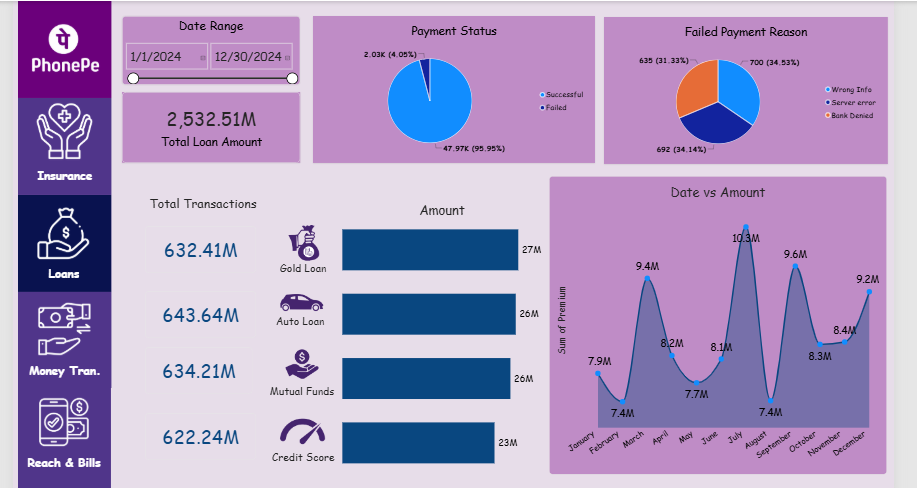

Layout of this report page (visuals, bound fields, positions):
{"tool":"powerbi","page":{"name":"Loans","canvas":[1920,1080],"ordinal":2},"visuals":[{"type":"shape","box":[9.9,0,203,210.9],"z":0},{"type":"shape","box":[9.9,0,203,210.9],"z":0,"group":"g3"},{"type":"shape","box":[10,840,202,226],"z":0,"group":"g2"},{"type":"shape","box":[9.9,210.9,203,210.9],"z":1000},{"type":"shape","box":[9.9,210.9,203,210.9],"z":1000,"group":"g4"},{"type":"image","box":[35.5,855.3,151.8,122.2],"z":1000,"group":"g2"},{"type":"shape","box":[9.9,421.8,203,210.9],"z":2000},{"type":"shape","box":[9.9,421.8,203,210.9],"z":2000,"group":"g5"},{"type":"shape","box":[17.7,977.5,187.2,51.2],"z":2000,"group":"g2"},{"type":"group","id":"g1","title":"Group 4","box":[9.9,0,203,841.5],"z":3000,"group":"g2"},{"type":"shape","box":[9.9,632.6,203,208.9],"z":3000,"group":"g1"},{"type":"shape","box":[9.9,632.6,203,208.9],"z":3000},{"type":"actionButton","box":[0,0,212,210],"z":4000,"group":"g2"},{"type":"shape","box":[10,840,202,226],"z":4000},{"type":"image","box":[33.5,15.8,157.7,181.3],"z":5000},{"type":"image","box":[33.5,15.8,157.7,181.3],"z":5000,"group":"g3"},{"type":"image","box":[25.6,210.9,171.5,143.9],"z":6000},{"type":"image","box":[25.7,210.9,171.5,143.9],"z":6000,"group":"g4"},{"type":"image","box":[31.5,441.5,157.7,124.2],"z":7000},{"type":"image","box":[31.6,441.5,157.7,124.2],"z":7000,"group":"g5"},{"type":"image","box":[27.6,650.4,167.5,126.1],"z":8000},{"type":"image","box":[27.6,650.4,167.5,126.1],"z":8000,"group":"g1"},{"type":"image","box":[35.5,855.3,151.8,122.2],"z":9000},{"type":"shape","box":[37.4,335,147.8,86.7],"z":10000},{"type":"shape","box":[37.5,335,147.8,86.7],"z":10000,"group":"g4"},{"type":"shape","box":[35.5,565.6,147.8,51.2],"z":11000},{"type":"shape","box":[35.5,565.6,147.8,51.2],"z":11000,"group":"g5"},{"type":"shape","box":[17.7,776.5,187.2,51.2],"z":12000},{"type":"shape","box":[17.8,776.5,187.2,51.2],"z":12000,"group":"g1"},{"type":"shape","box":[17.7,977.5,187.2,51.2],"z":13000},{"type":"group","id":"g2","title":"Group 5","box":[0,0,212.8,1066],"z":14000},{"type":"actionButton","box":[4,210,212,210],"z":15000},{"type":"actionButton","box":[14,220,212,210],"z":16000},{"type":"actionButton","box":[6,632,212,210],"z":17000},{"type":"actionButton","box":[0,856,212,210],"z":18000},{"type":"actionButton","box":[0,2,212,210],"z":19000},{"type":"slicer","title":"Date Range","fields":{"Values":["Recharge_Bills.Date"]},"box":[238,32,388,150],"z":20000},{"type":"cardVisual","title":"Total Loan Amount","fields":{"Data":["Sum(Loans.Loan_Amount)"]},"box":[238,198,388,154],"z":21000},{"type":"group","id":"g3","title":"Group 1","box":[9.9,0,203,210.9],"z":21001,"group":"g4"},{"type":"group","id":"g4","title":"Group 2","box":[9.9,0,203,421.8],"z":21002,"group":"g5"},{"type":"group","id":"g5","title":"Group 3","box":[9.9,0,203,632.6],"z":21003,"group":"g1"},{"type":"pieChart","title":"Payment Status","fields":{"Category":["Loans.Payment_Status"],"Y":["CountNonNull(Loans.Payment_Status)"]},"box":[652.5,32.5,614,320],"z":22000},{"type":"pieChart","title":"Failed Payment Reason","fields":{"Category":["Loans.Reason"],"Y":["CountNonNull(Loans.Reason)"]},"box":[1286,34,618,320],"z":23000},{"type":"areaChart","title":"Date vs Amount","fields":{"Category":["Loans.Date.Variation.Date Hierarchy.Month"],"Y":["Sum(Loans.Loan_Amount)"]},"box":[1168,380,736,650],"z":24000},{"type":"barChart","title":"Amount","fields":{"Category":["Loans.Loan_Type"],"Y":["Sum(Loans.Loan_Amount)"]},"box":[702,420,466,610],"z":25000},{"type":"image","box":[568,488,130,78],"z":26000},{"type":"image","box":[540,618,180,74],"z":27000},{"type":"image","box":[558,754,144,74],"z":28000},{"type":"image","box":[572,898,116,80],"z":29000},{"type":"textbox","box":[255,423.3,318.3,65],"z":30000},{"type":"cardVisual","fields":{"Data":["Sum(Loans.Loan_Amount)"]},"box":[288,490,242,102],"z":31000},{"type":"cardVisual","fields":{"Data":["Sum(Loans.Loan_Amount)"]},"box":[288,754,234,102],"z":32000},{"type":"cardVisual","fields":{"Data":["Sum(Loans.Loan_Amount)"]},"box":[288,632,242,102],"z":33000},{"type":"cardVisual","fields":{"Data":["Sum(Loans.Loan_Amount)"]},"box":[288,898,242,102],"z":34000},{"type":"shape","title":"Gold Loan","box":[578,566,110,44],"z":35000},{"type":"shape","title":"Auto Loan","box":[570,682,110,44],"z":36000},{"type":"shape","title":"Mutual Funds","box":[558,834,144,44],"z":37000},{"type":"shape","title":"Credit Score","box":[558,978,150,44],"z":38000}]}

Visuals, with their boxes on the page's 1920x1080 design canvas (x1, y1, x2, y2). These are canvas units, not pixel positions in the 917x488 screenshot, which may show the page scaled, cropped or inside an application window:
shape: box=[10, 0, 213, 211]
shape: box=[10, 0, 213, 211]
shape: box=[10, 840, 212, 1066]
shape: box=[10, 211, 213, 422]
shape: box=[10, 211, 213, 422]
image: box=[36, 855, 187, 978]
shape: box=[10, 422, 213, 633]
shape: box=[10, 422, 213, 633]
shape: box=[18, 978, 205, 1029]
"Group 4" group: box=[10, 0, 213, 842]
shape: box=[10, 633, 213, 842]
shape: box=[10, 633, 213, 842]
actionButton: box=[0, 0, 212, 210]
shape: box=[10, 840, 212, 1066]
image: box=[34, 16, 191, 197]
image: box=[34, 16, 191, 197]
image: box=[26, 211, 197, 355]
image: box=[26, 211, 197, 355]
image: box=[32, 442, 189, 566]
image: box=[32, 442, 189, 566]
image: box=[28, 650, 195, 776]
image: box=[28, 650, 195, 776]
image: box=[36, 855, 187, 978]
shape: box=[37, 335, 185, 422]
shape: box=[38, 335, 185, 422]
shape: box=[36, 566, 183, 617]
shape: box=[36, 566, 183, 617]
shape: box=[18, 776, 205, 828]
shape: box=[18, 776, 205, 828]
shape: box=[18, 978, 205, 1029]
"Group 5" group: box=[0, 0, 213, 1066]
actionButton: box=[4, 210, 216, 420]
actionButton: box=[14, 220, 226, 430]
actionButton: box=[6, 632, 218, 842]
actionButton: box=[0, 856, 212, 1066]
actionButton: box=[0, 2, 212, 212]
"Date Range" slicer: box=[238, 32, 626, 182]
"Total Loan Amount" cardVisual: box=[238, 198, 626, 352]
"Group 1" group: box=[10, 0, 213, 211]
"Group 2" group: box=[10, 0, 213, 422]
"Group 3" group: box=[10, 0, 213, 633]
"Payment Status" pieChart: box=[652, 32, 1266, 352]
"Failed Payment Reason" pieChart: box=[1286, 34, 1904, 354]
"Date vs Amount" areaChart: box=[1168, 380, 1904, 1030]
"Amount" barChart: box=[702, 420, 1168, 1030]
image: box=[568, 488, 698, 566]
image: box=[540, 618, 720, 692]
image: box=[558, 754, 702, 828]
image: box=[572, 898, 688, 978]
textbox: box=[255, 423, 573, 488]
cardVisual - Sum(Loans.Loan_Amount): box=[288, 490, 530, 592]
cardVisual - Sum(Loans.Loan_Amount): box=[288, 754, 522, 856]
cardVisual - Sum(Loans.Loan_Amount): box=[288, 632, 530, 734]
cardVisual - Sum(Loans.Loan_Amount): box=[288, 898, 530, 1000]
"Gold Loan" shape: box=[578, 566, 688, 610]
"Auto Loan" shape: box=[570, 682, 680, 726]
"Mutual Funds" shape: box=[558, 834, 702, 878]
"Credit Score" shape: box=[558, 978, 708, 1022]
